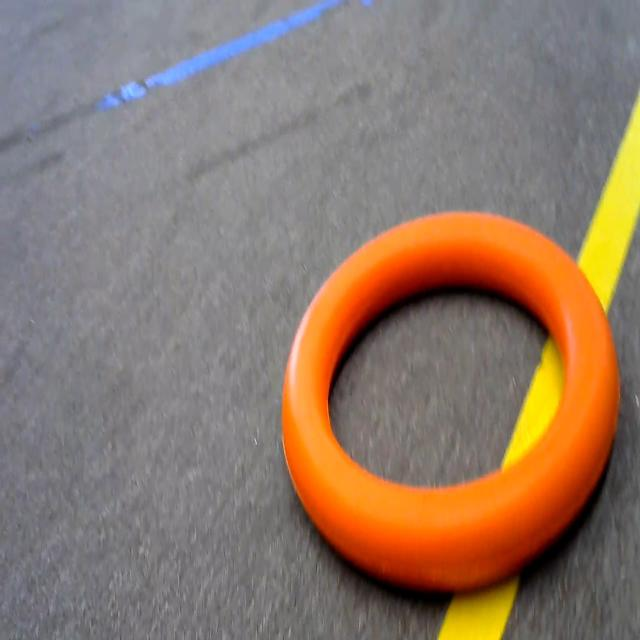note: (275, 194, 628, 592)
